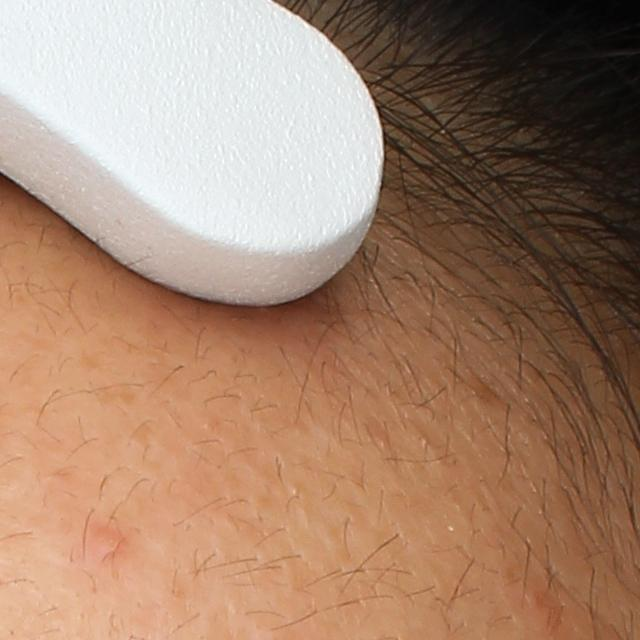papule: (86, 523, 128, 556)
